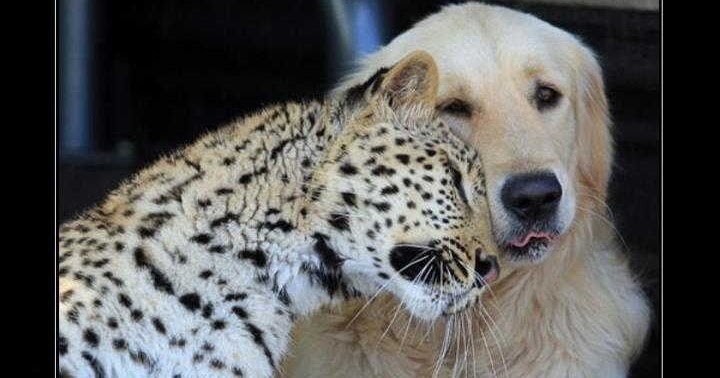dog: (349, 1, 644, 378)
tiger: (64, 80, 499, 378)
